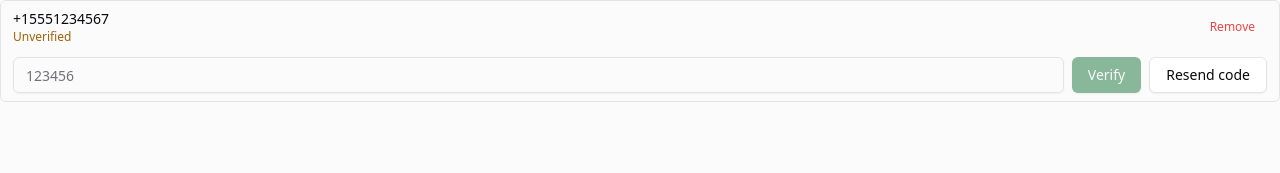
Scenario: PhoneNumberRow › shows an error when verify fails
Type "000000" into the field named "verification code". click: [538, 75]
box: [13,57,1064,93]
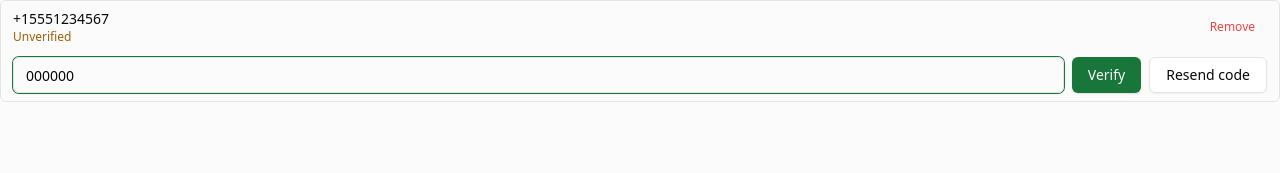
Click the button "Verify". click: [1106, 75]
box: [1072,57,1141,93]
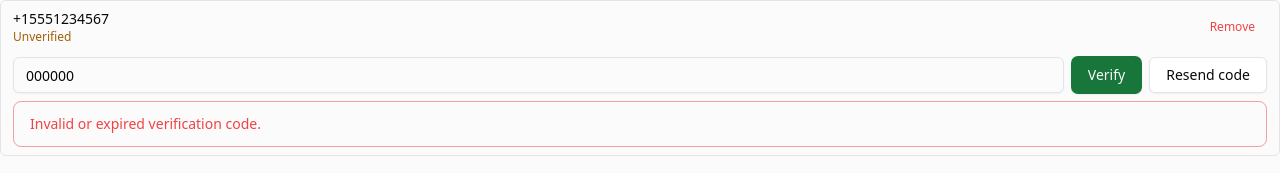
Check: the text "Invalid or expired verification code." is shown, box [30,114,261,133]
